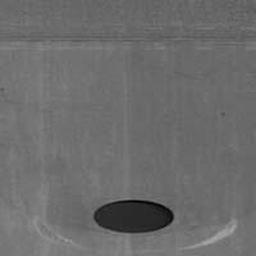Punching: (93, 200, 177, 234)
